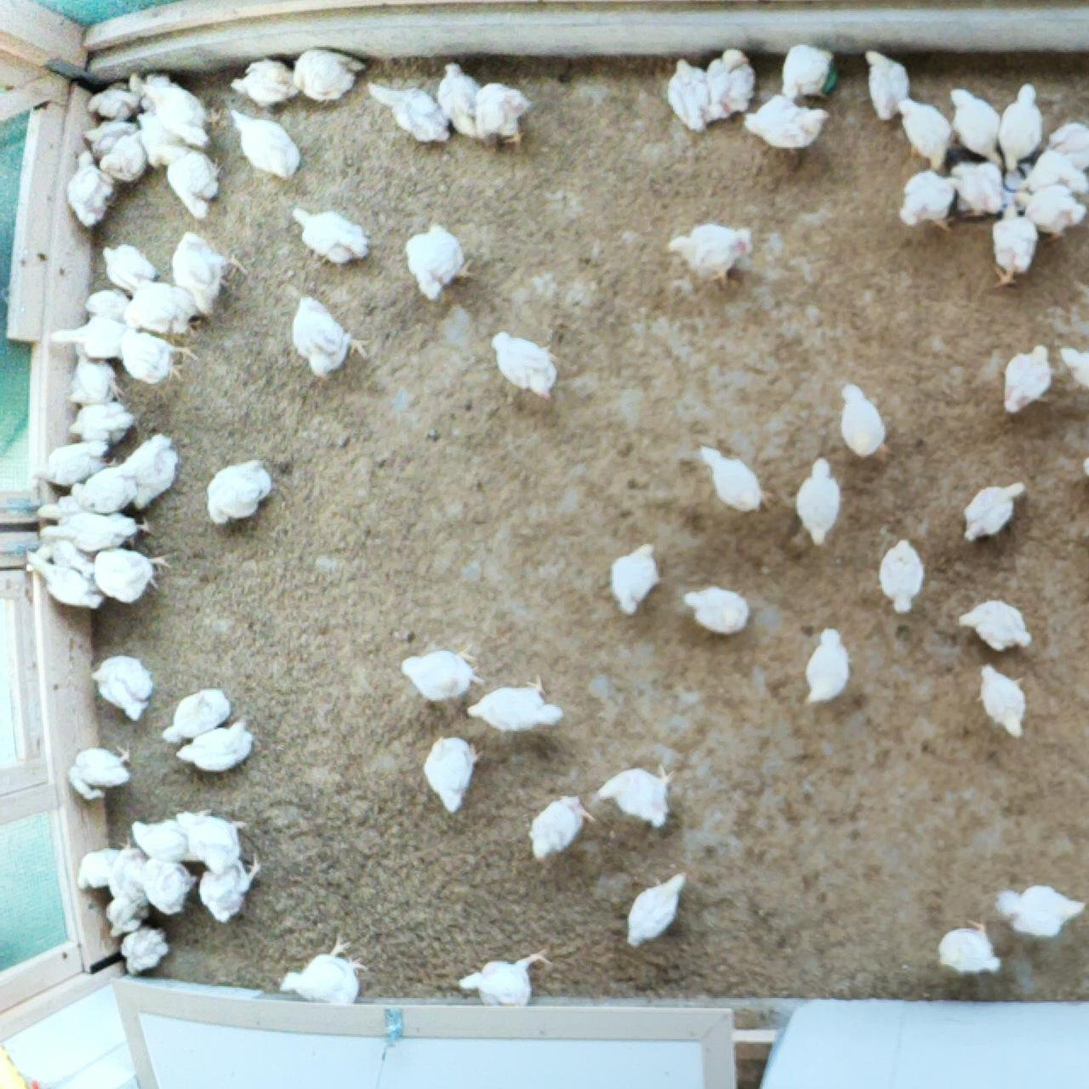chicken: (290, 288, 373, 386), (165, 226, 250, 320), (827, 370, 905, 466), (276, 931, 375, 1005), (661, 214, 757, 290), (986, 876, 1089, 945), (454, 940, 559, 1007), (693, 437, 776, 520), (36, 503, 157, 559), (464, 671, 566, 736), (489, 327, 572, 406), (403, 216, 479, 301), (141, 80, 230, 151), (418, 730, 489, 818), (616, 870, 693, 951), (736, 90, 833, 154), (594, 760, 677, 834), (363, 77, 453, 145), (19, 545, 106, 614), (225, 109, 305, 184), (155, 141, 227, 223), (288, 198, 373, 267), (116, 276, 204, 341), (523, 788, 598, 864), (397, 642, 485, 706), (927, 910, 1009, 978), (197, 850, 273, 923), (798, 619, 859, 709), (90, 544, 177, 607), (173, 714, 263, 774), (60, 737, 137, 807), (608, 532, 666, 622), (995, 78, 1047, 178), (205, 454, 276, 527), (793, 455, 848, 549), (894, 91, 960, 169), (116, 322, 200, 383), (984, 201, 1040, 291), (957, 475, 1027, 546), (87, 651, 155, 724), (176, 805, 251, 871), (678, 574, 754, 639), (949, 595, 1035, 652), (1010, 178, 1089, 240), (945, 83, 1007, 162), (122, 427, 179, 512), (703, 42, 762, 124), (290, 45, 370, 105), (31, 438, 123, 490), (435, 55, 488, 144), (995, 336, 1053, 417), (473, 77, 536, 151), (160, 682, 234, 744), (974, 662, 1032, 741), (61, 144, 113, 232), (875, 532, 928, 617), (661, 56, 716, 137), (776, 38, 845, 102), (859, 49, 916, 125), (45, 310, 128, 361), (895, 168, 962, 231), (68, 460, 137, 519), (57, 351, 124, 411), (229, 54, 302, 109), (136, 854, 198, 918), (948, 153, 1006, 219), (99, 237, 164, 291), (1023, 140, 1089, 192), (124, 814, 191, 865), (66, 398, 135, 447), (86, 66, 146, 117), (97, 128, 151, 184), (107, 839, 154, 903), (119, 926, 170, 979), (1047, 111, 1089, 173), (73, 844, 123, 894), (80, 116, 136, 158), (99, 898, 145, 944), (32, 491, 91, 526), (81, 286, 135, 322), (137, 108, 179, 152), (1058, 341, 1089, 390)
